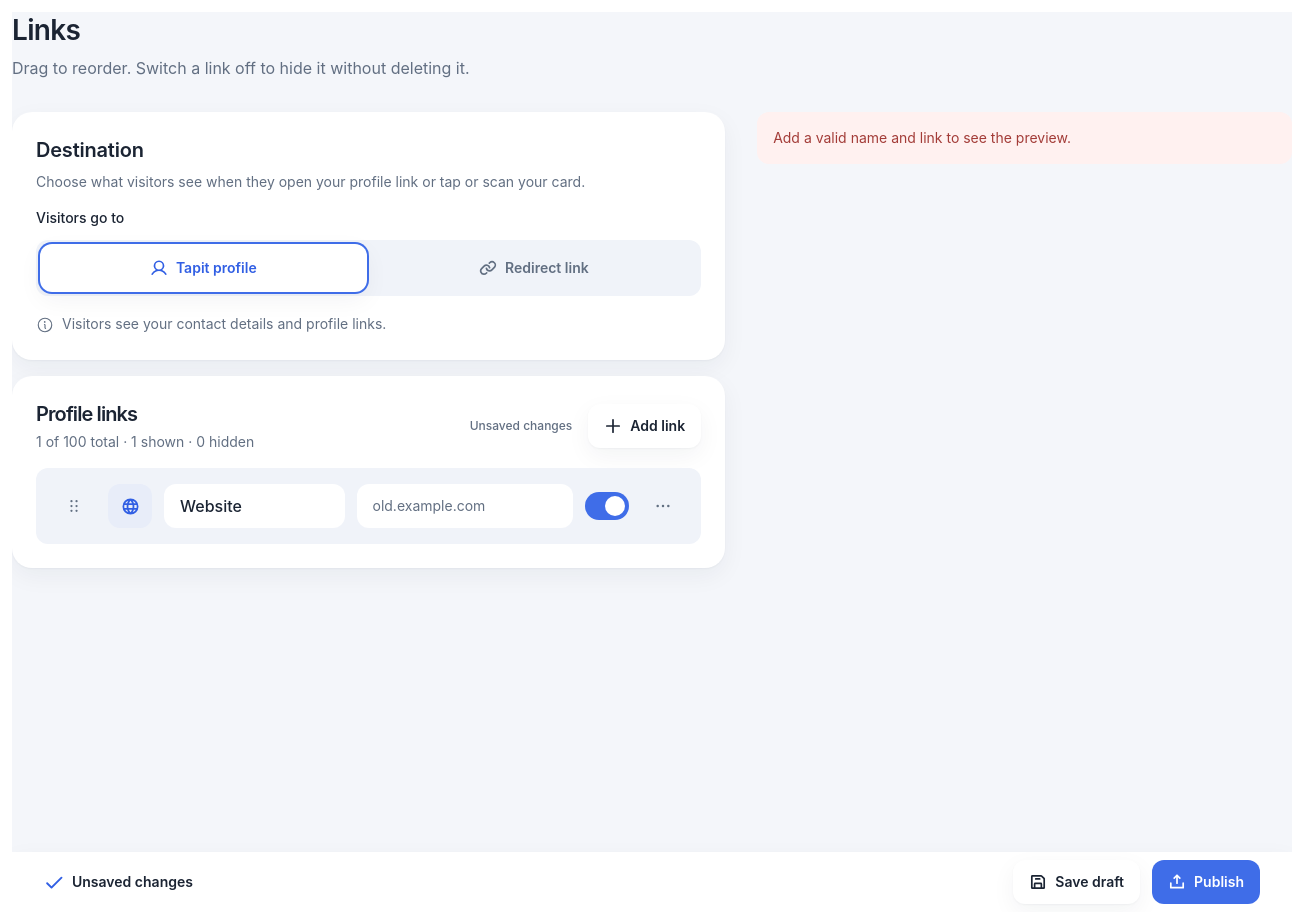
Test: LinksWorkspace destination editing › does not double the scheme when a full URL replaces a website
Replace the text in the 2nd field named "Destination for Website" with "https://other.example.com": point(465, 506) 356,484 -> 573,528
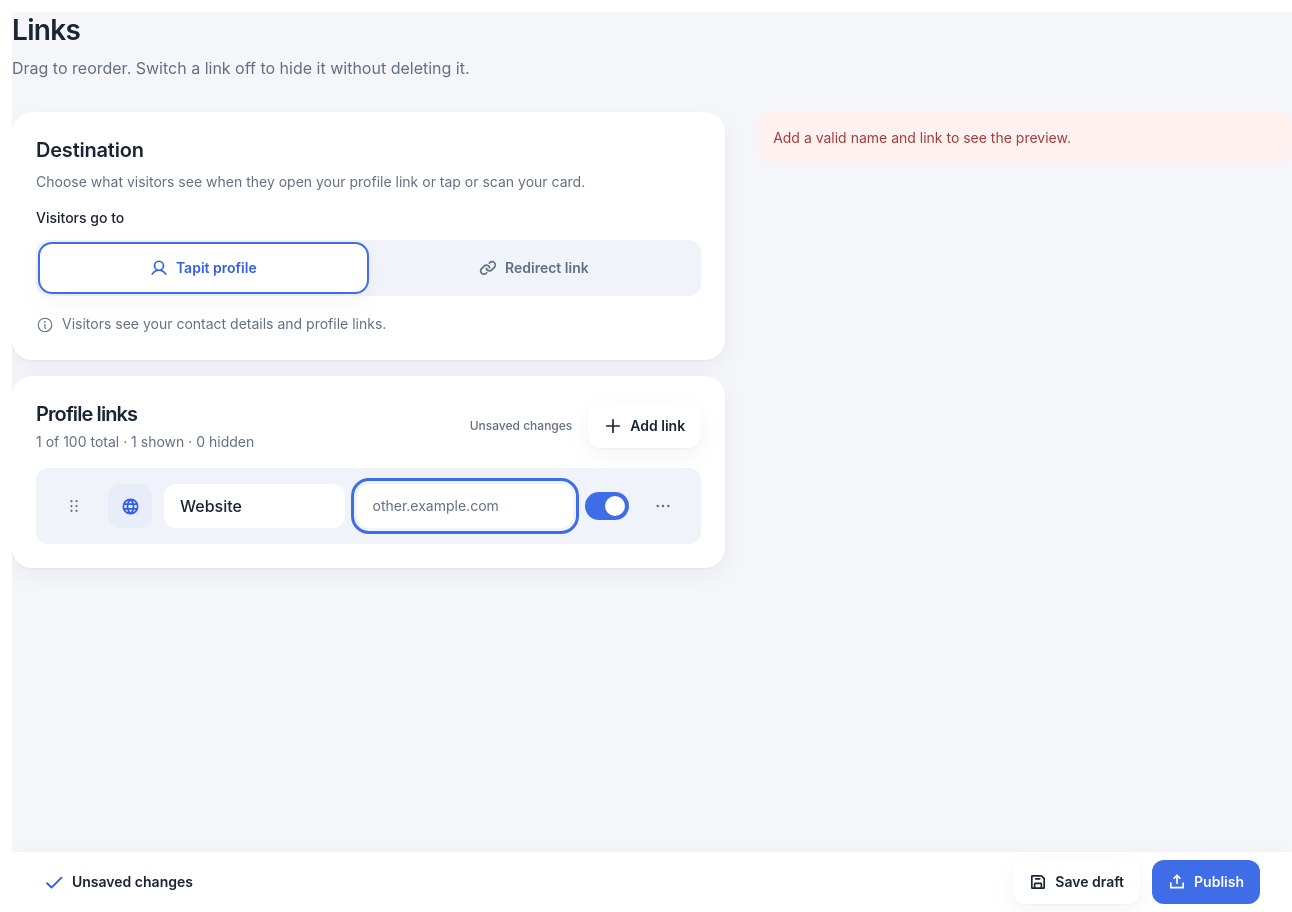
Expected: the 2nd field named "Destination for Website" holds "other.example.com", 356,484 -> 573,528
